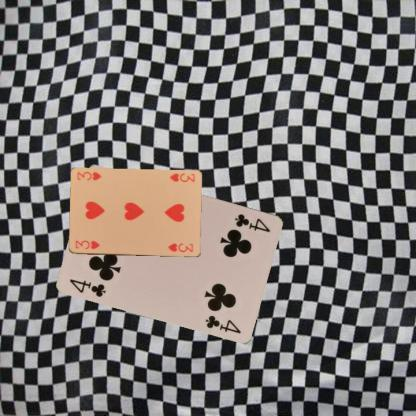3h: (166, 171, 196, 183), (73, 238, 100, 250)
4c: (66, 276, 108, 298), (232, 210, 272, 233)
